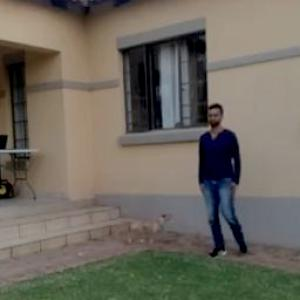follow: (192, 100, 245, 259)
